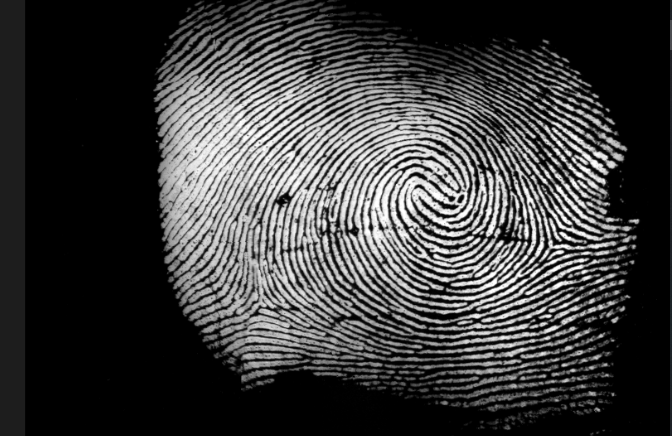nucelo: (406, 180, 444, 221)
verticilo: (244, 284, 279, 313), (535, 235, 570, 258)
